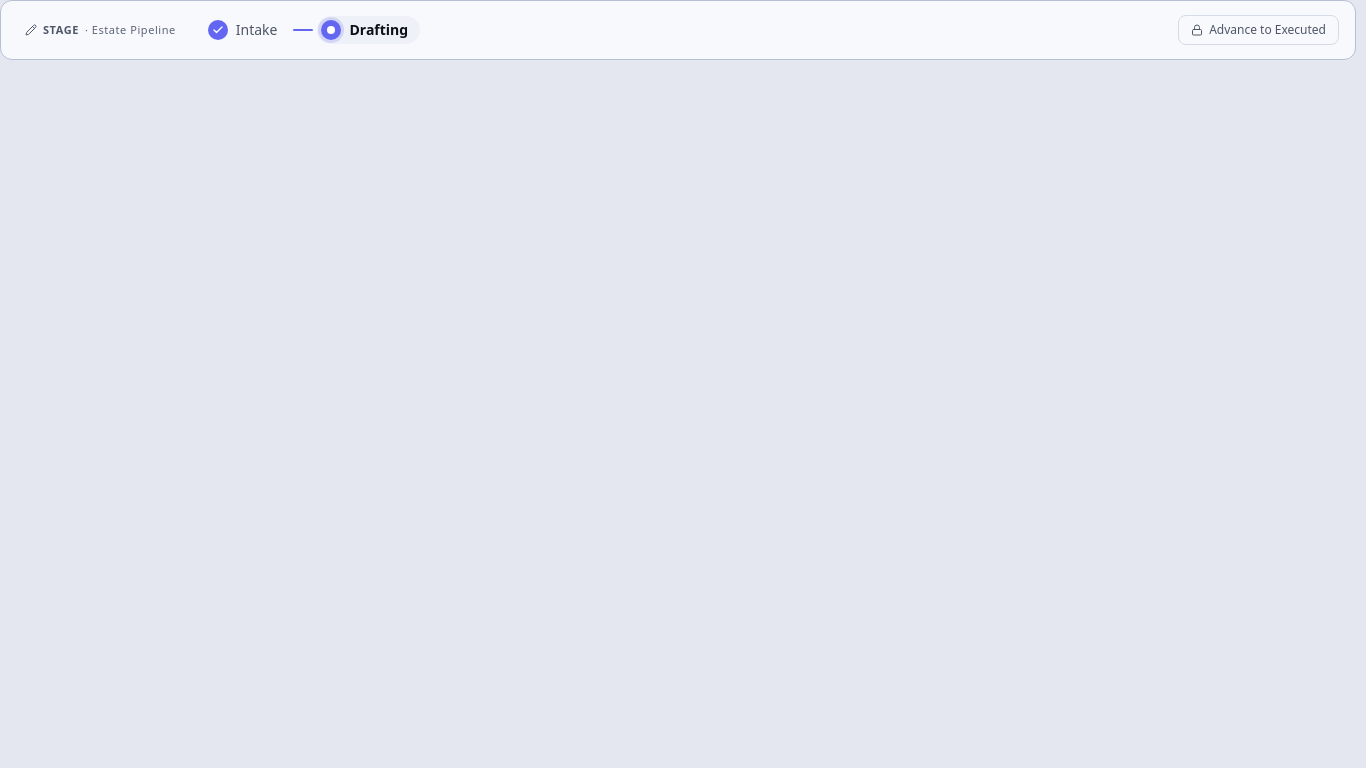
Test case: MatterStageBar › offers to close the matter when it lands on an ending stage, listing the work that would be buried
Click the button "Advance to Executed" at (1259, 30), box [1178,15,1339,45]
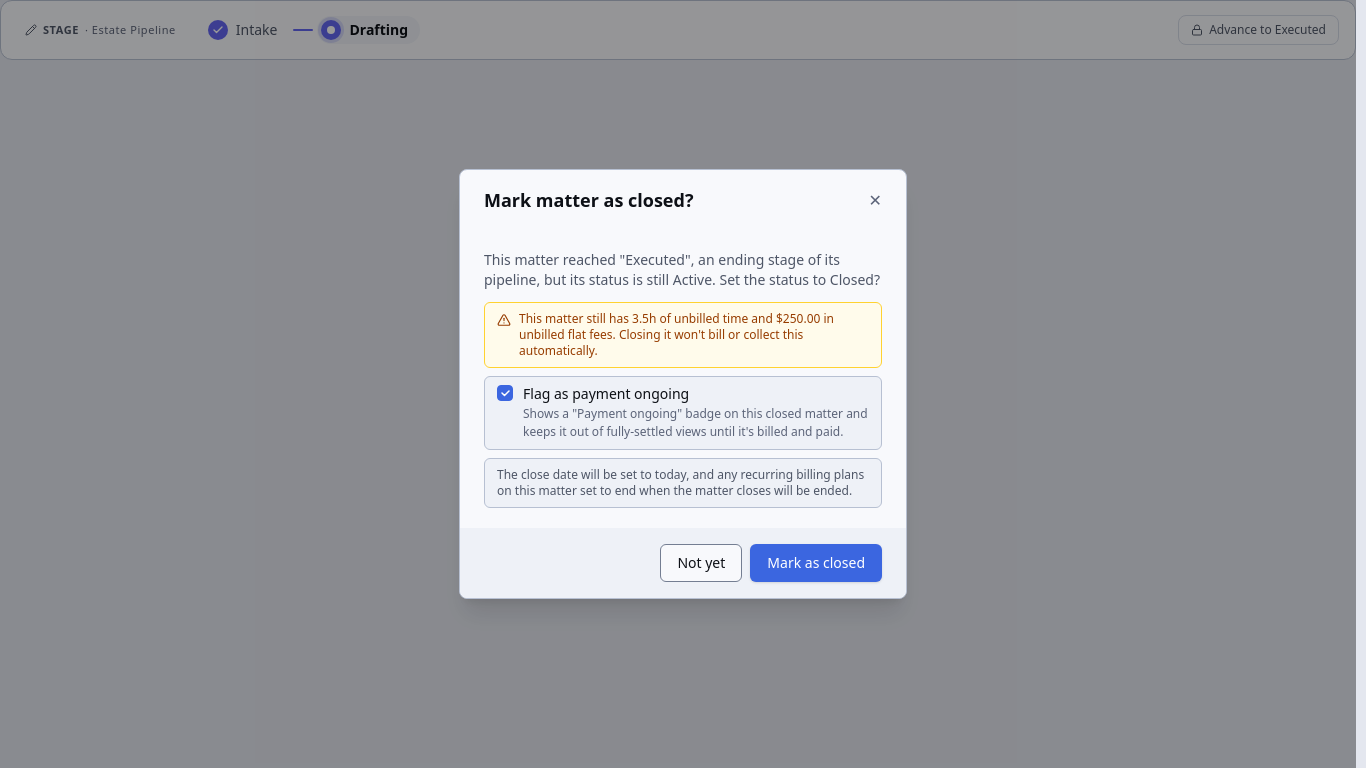
Check: the heading "Mark matter as closed?" is shown, box [484,186,694,214]
Check: the dialog shows "This matter reached \"Executed\", an ending stage of its pipeline, but its status is still Active.", box [484,250,880,289]
Check: the dialog shows "3.5h of unbilled time and $250.00 in unbilled flat fees", box [519,310,834,343]
